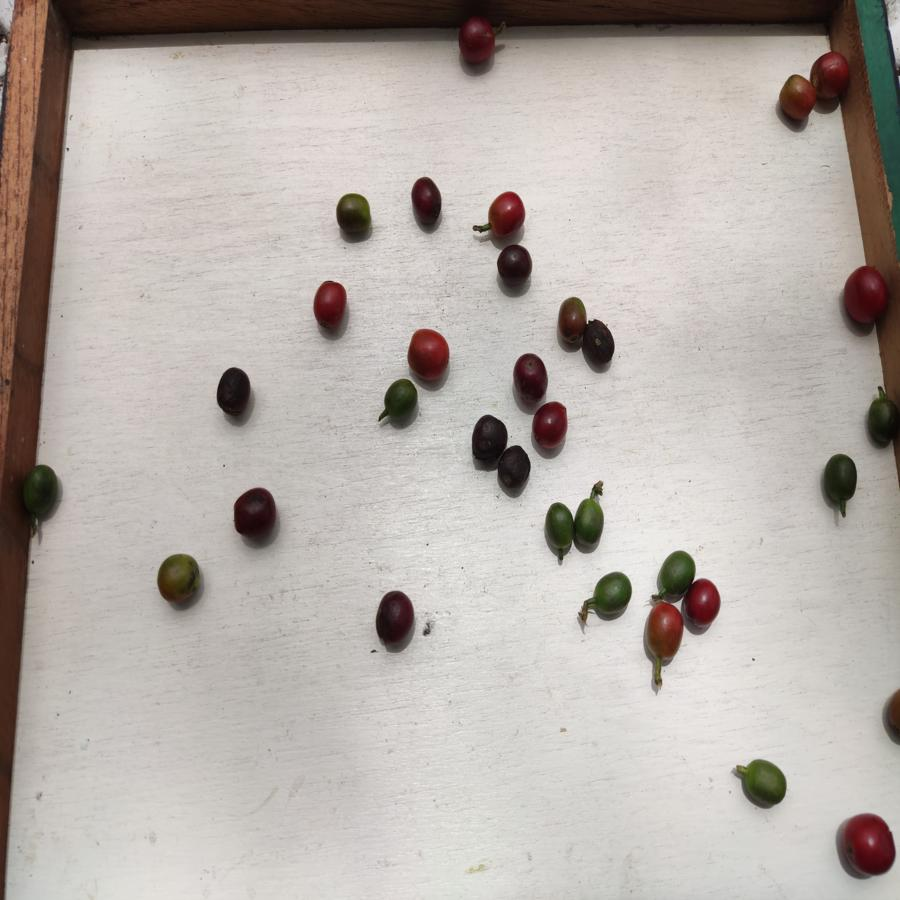Inmaduro: (741, 757, 788, 808), (821, 452, 861, 505), (592, 571, 633, 620), (26, 462, 57, 523), (541, 502, 576, 552), (865, 397, 900, 447), (573, 497, 605, 550), (382, 378, 420, 421), (659, 548, 692, 595)
Maduro: (840, 812, 896, 878), (844, 265, 890, 328), (409, 328, 452, 380), (456, 14, 498, 67), (811, 51, 850, 103), (685, 579, 722, 631), (485, 191, 526, 237), (313, 276, 345, 328)
Pinton: (645, 601, 684, 664), (157, 552, 201, 603), (780, 73, 815, 123), (336, 192, 373, 238), (557, 293, 585, 345)
Sobremaduro: (372, 590, 417, 648), (233, 488, 278, 539), (512, 351, 550, 404), (531, 401, 569, 450), (409, 176, 444, 229), (216, 367, 251, 418), (495, 243, 532, 290), (497, 445, 531, 490), (471, 416, 505, 459), (582, 318, 614, 363)
